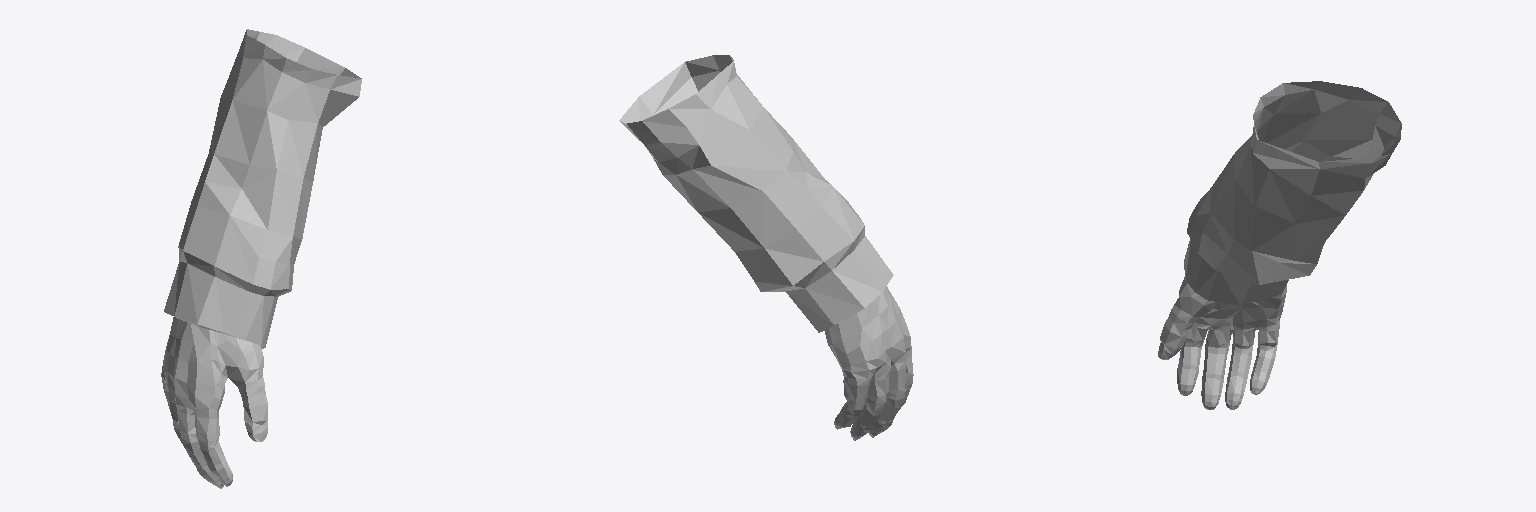
File: manoDer.obj
3 views of the same model, side by side, from view 1: azimuth 30°, elevation 25°; view 2: azimuth 150°, elevation 25°; view 3: azimuth 270°, elevation 25° (orthographic).
Bounding box in the file's own units: 24.9 × 41.2 × 24.06.